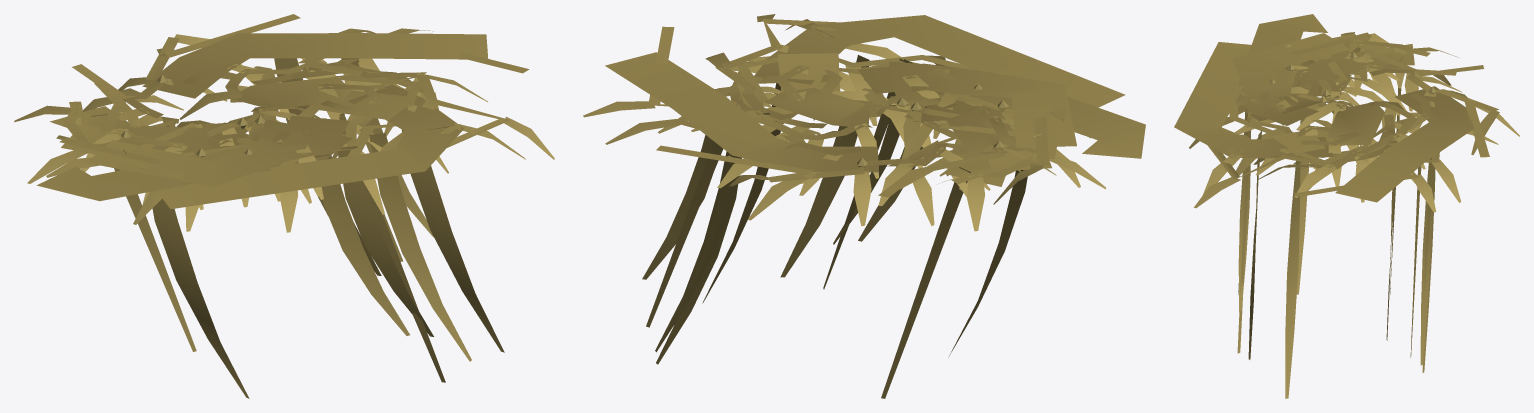
The model's file is kelp_raft.glb.
3 views of the same model, side by side, from view 1: azimuth 30°, elevation 25°; view 2: azimuth 150°, elevation 25°; view 3: azimuth 270°, elevation 25° (orthographic). The views are drawn at different scales.
Parts seen in each view (by area): view 1: kelp_raft, kelp_raft_lo; view 2: kelp_raft_lo, kelp_raft; view 3: kelp_raft, kelp_raft_lo.
Boxes of the visible parts, x1,y1,x2,y2 form: kelp_raft: [14, 14, 554, 398]; kelp_raft_lo: [36, 33, 488, 382]; kelp_raft_lo: [605, 15, 1145, 398]; kelp_raft: [583, 14, 1105, 364]; kelp_raft: [1189, 32, 1519, 398]; kelp_raft_lo: [1174, 14, 1474, 357].
Size of the model in its own units: 5.65 by 3.03 by 4.34.
